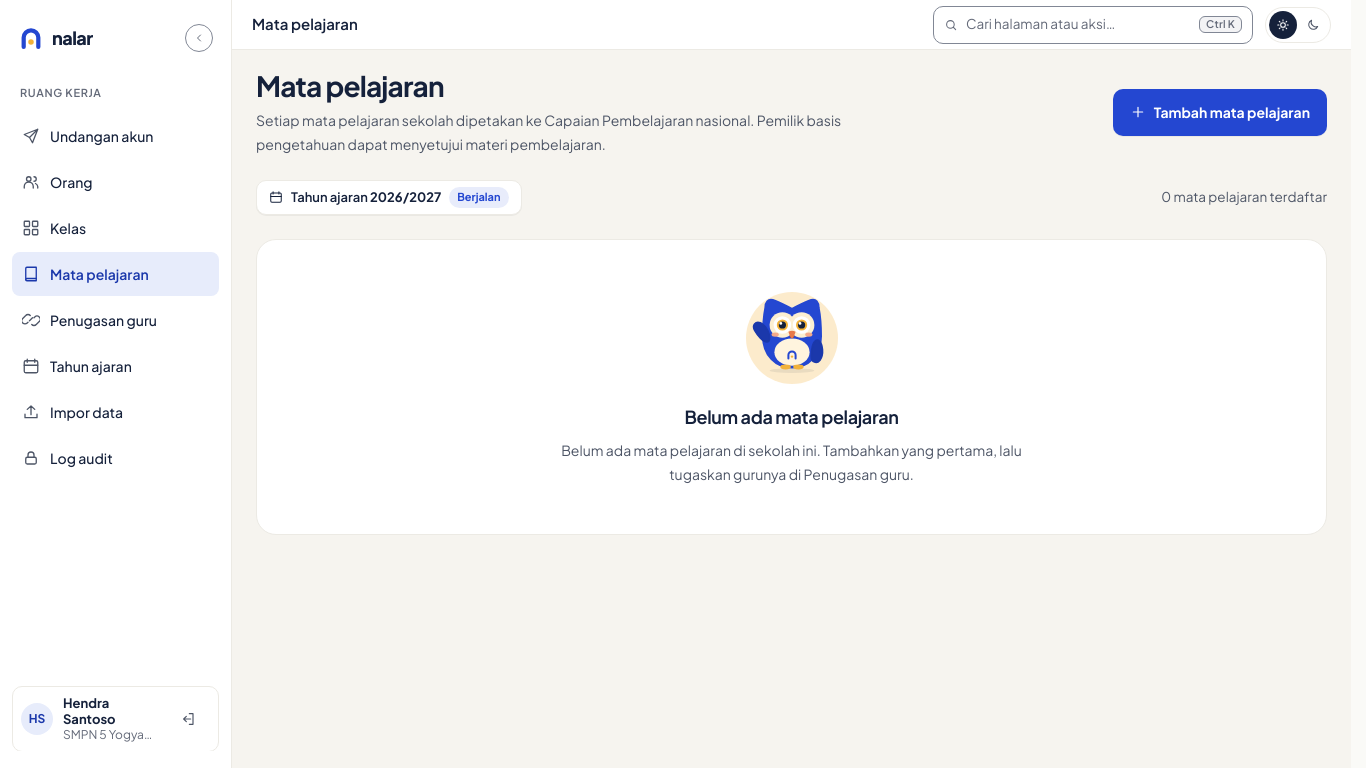
Scenario: school administration › adds a subject after reading the chosen CP subject, retrying with the same key
The width and height of the screenshot is (1366, 768).
Click the button "Tambah mata pelajaran": (1220, 112) [1113,88,1327,136]
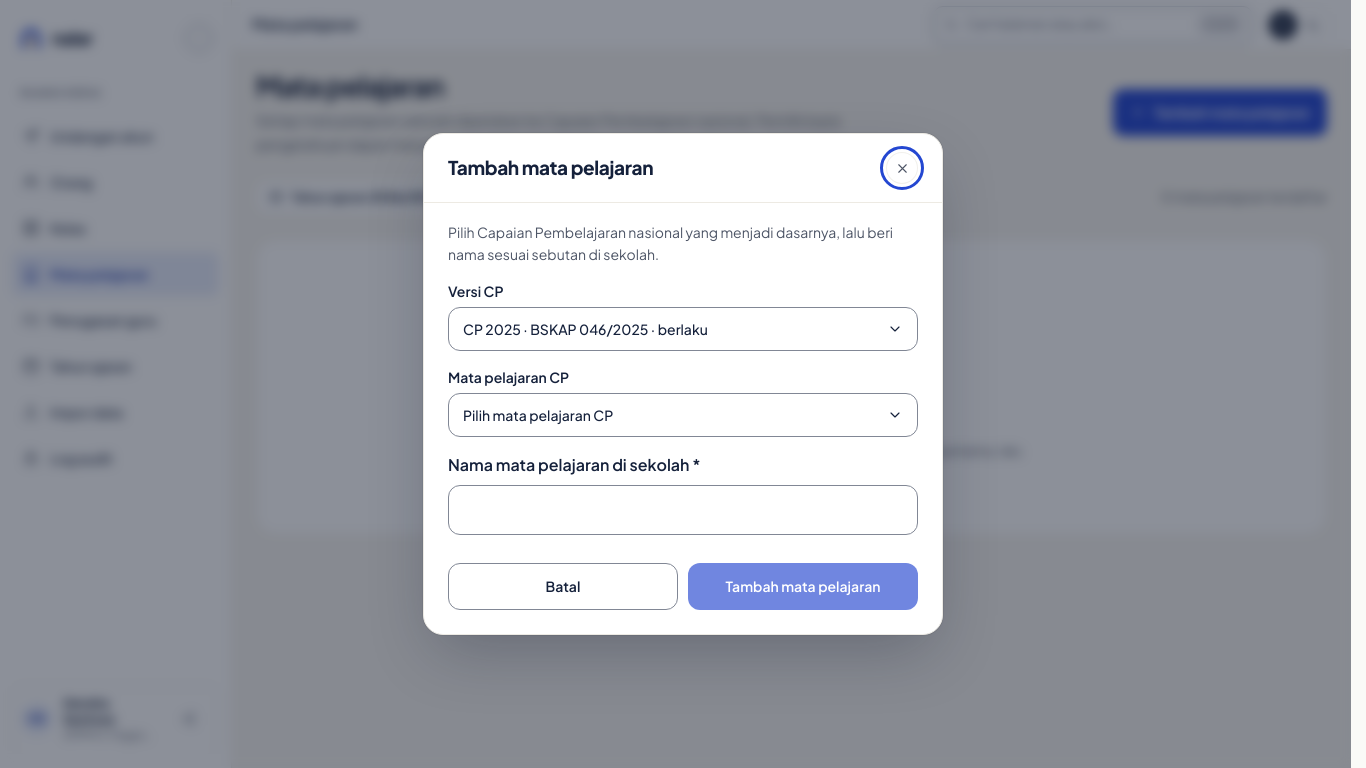
Check: the button "Tambah mata pelajaran" is disabled, box [688,563,918,610]
Click the dropdown labelled "mata pelajaran CP": (538, 415) [448,393,918,437]
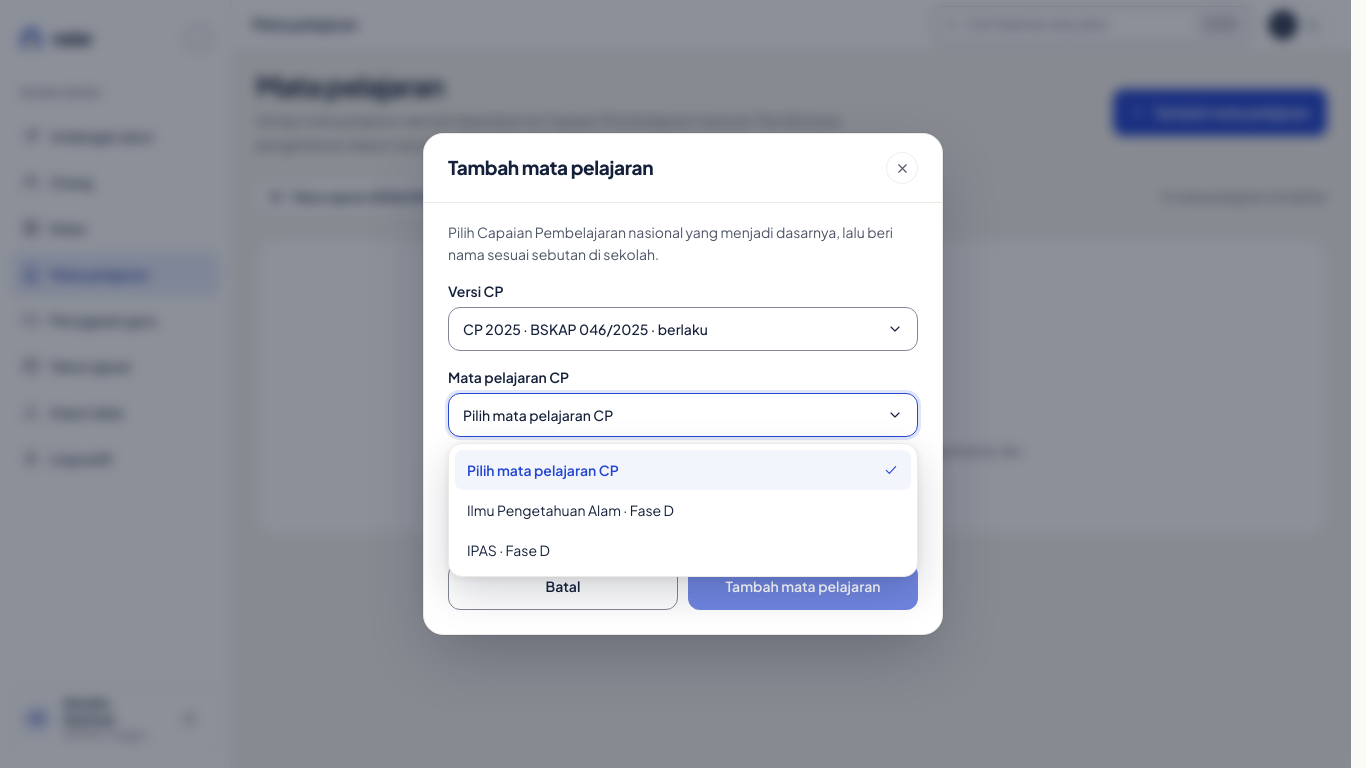
Click the option "Ilmu Pengetahuan Alam · Fase D": (570, 510) [467,501,674,519]
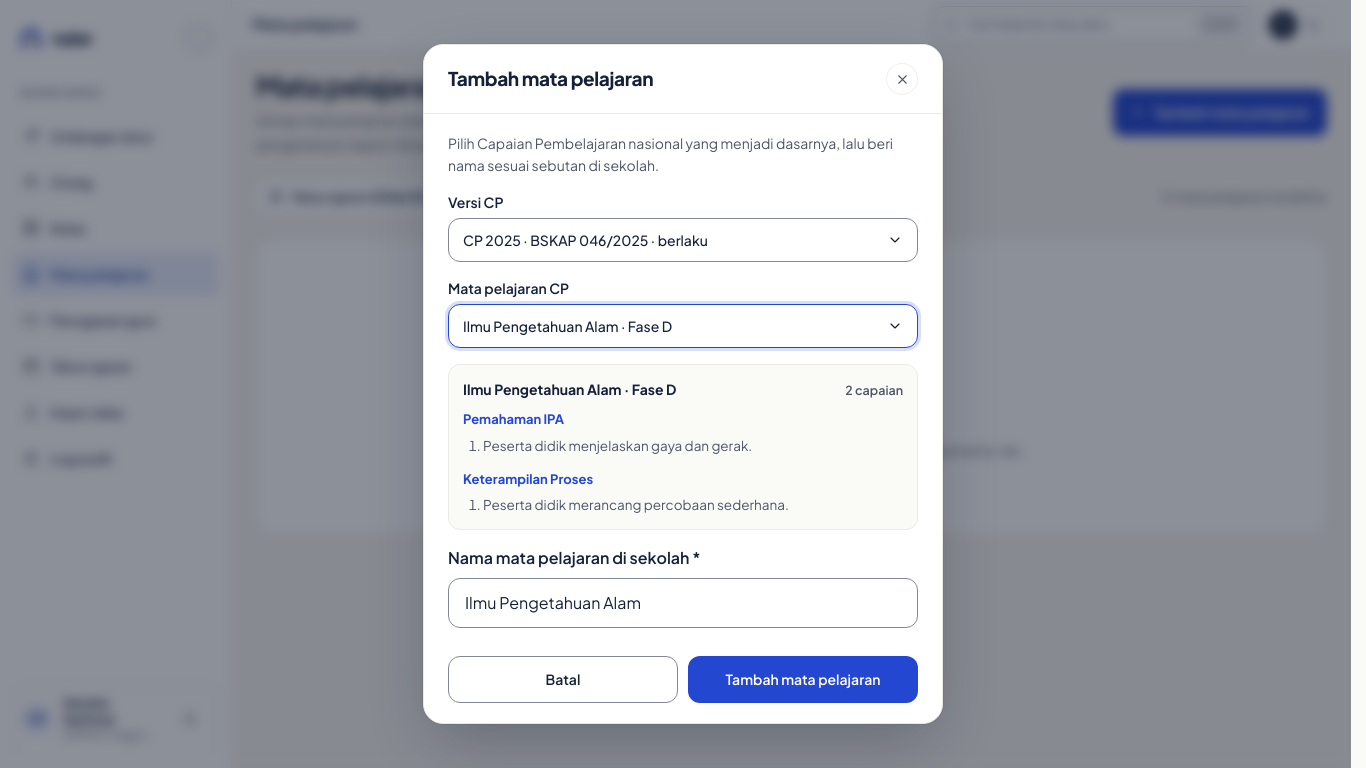
Check: the list item "Peserta didik menjelaskan gaya dan gerak." is shown, box [483,436,752,454]
Check: the heading "Keterampilan Proses" is shown, box [463,470,593,486]
Check: the text "2 capaian" is shown, box [845,381,903,400]
Replace the text in the field labelled "Nama mata pelajaran di sekolah *" with "  IPA   Terpadu ": (683, 603) [448,578,918,628]
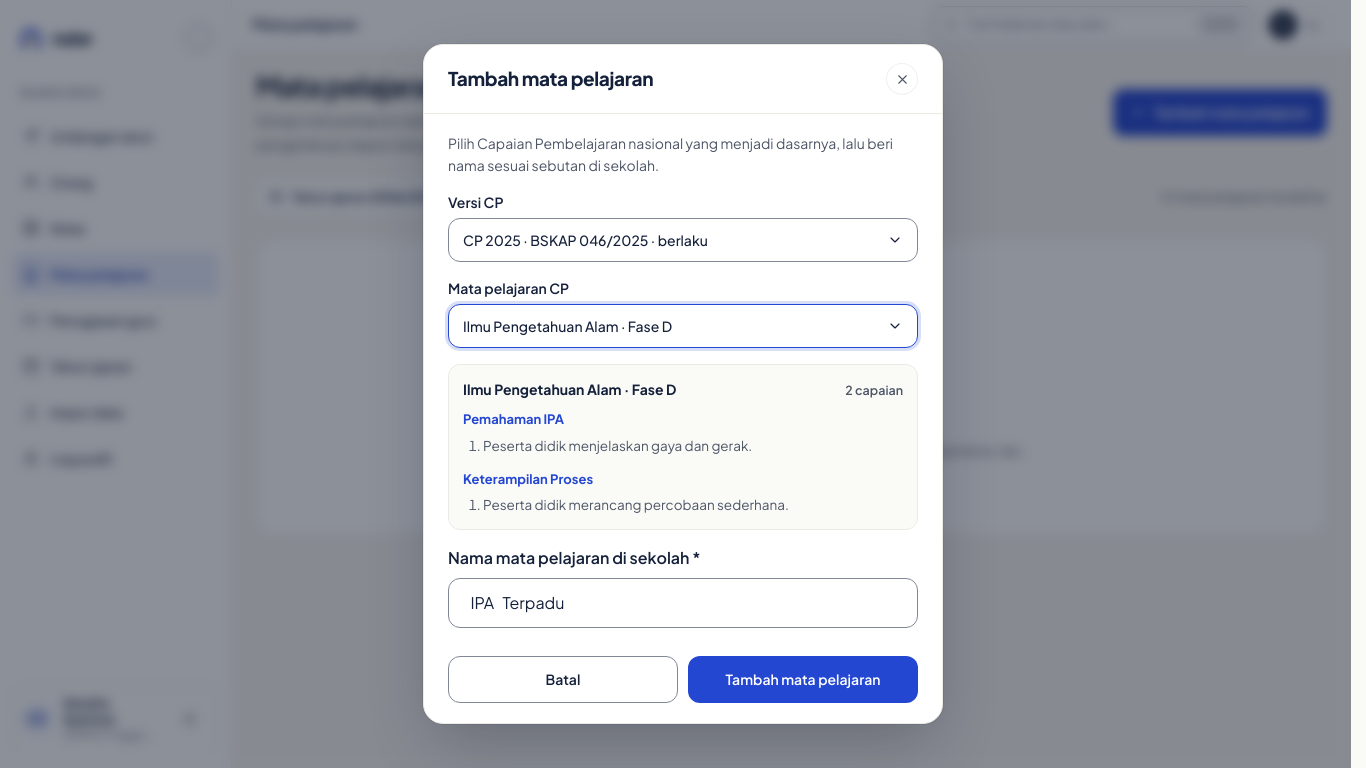
Click the button "Tambah mata pelajaran": (803, 680) [688,656,918,703]
(page scrolled)
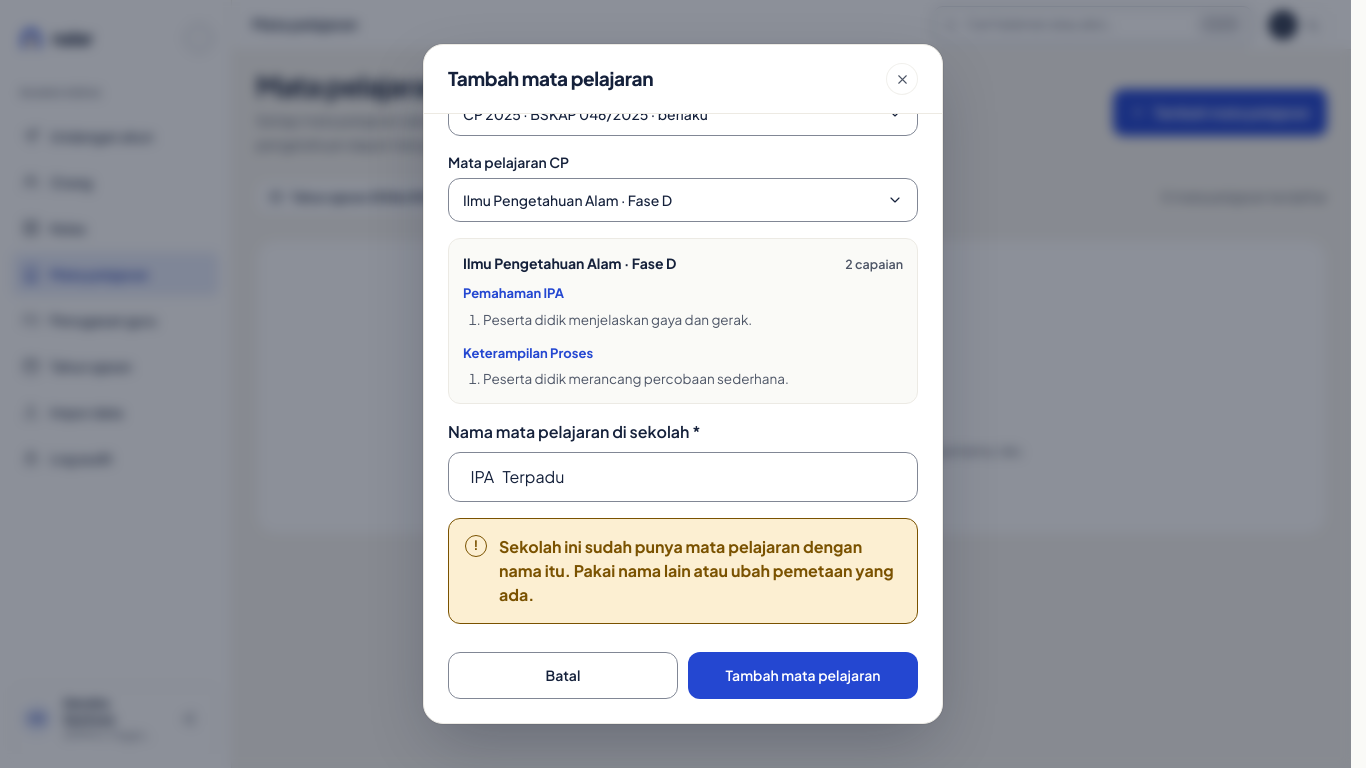
Check: the text "sudah punya mata pelajaran dengan nama itu" is shown, box [499,536,894,605]
Click the button "Tambah mata pelajaran": (803, 676) [688,652,918,699]
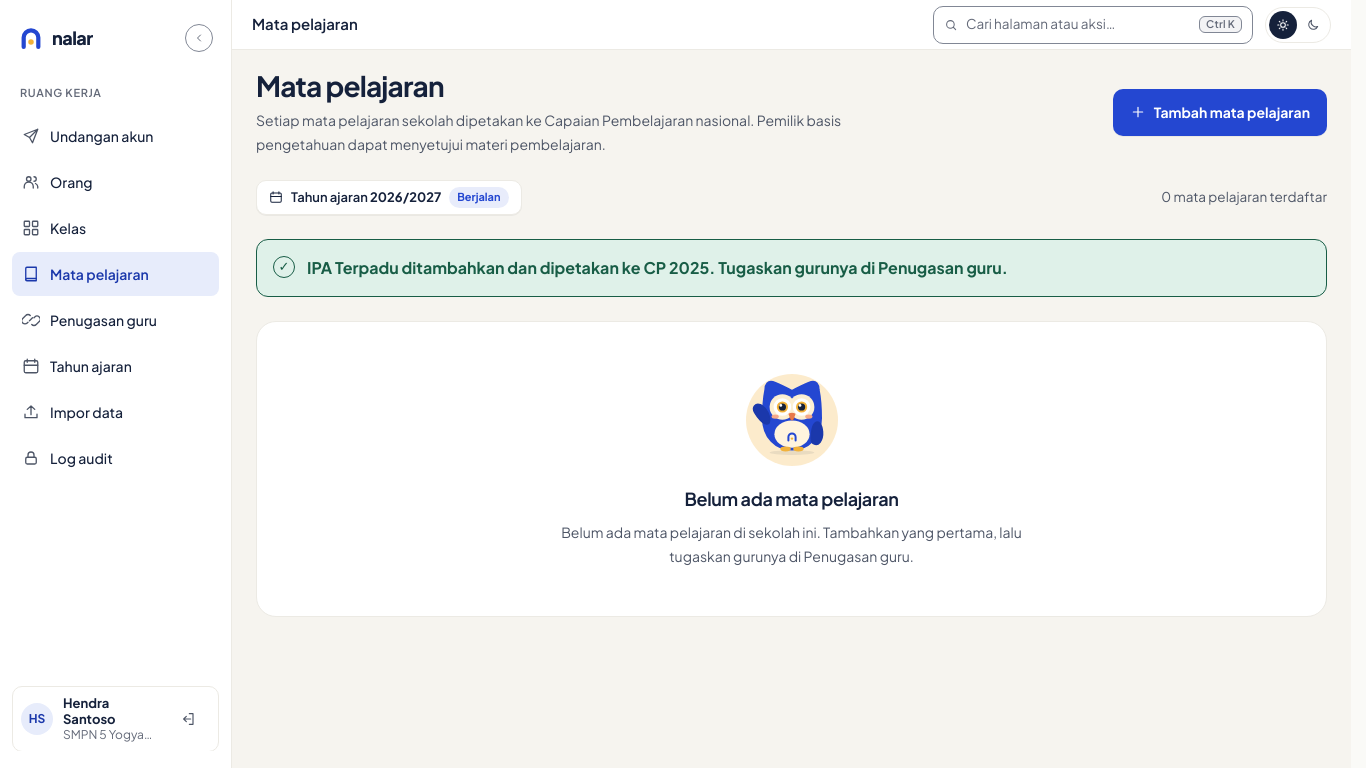
Check: the text "IPA Terpadu ditambahkan dan dipetakan ke CP 2025" is shown, box [307,256,1008,278]
